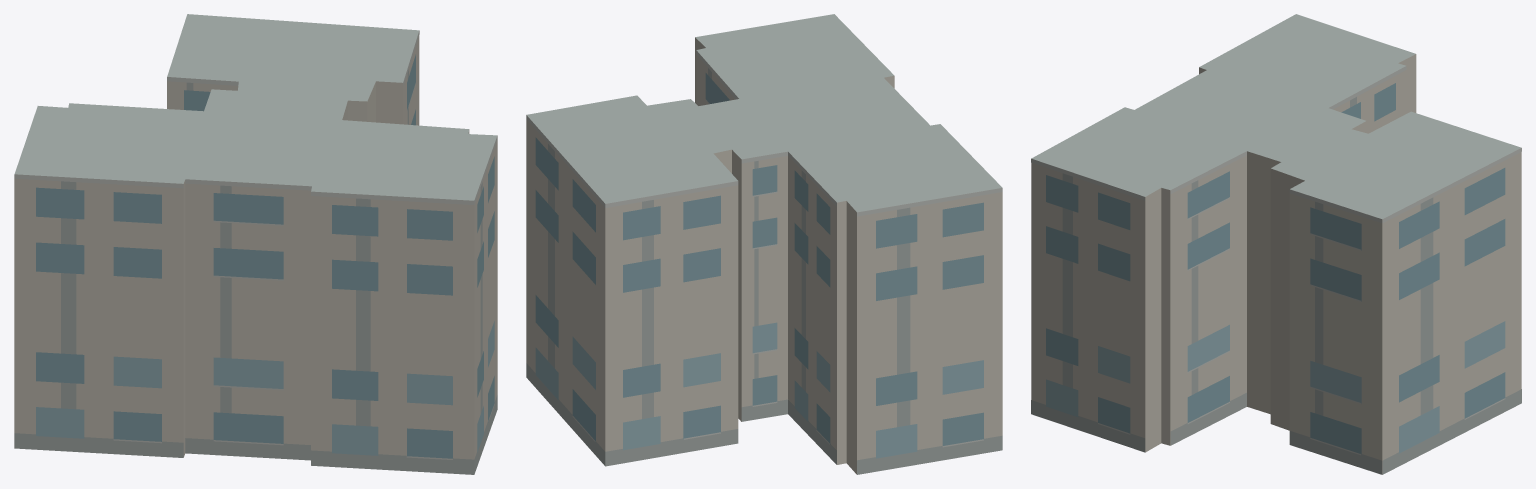
File: survey-upis-32724401.glb
3 views of the same model, side by side, from view 1: azimuth 30°, elevation 25°; view 2: azimuth 150°, elevation 25°; view 3: azimuth 270°, elevation 25° (orthographic). The views are drawn at different scales.
Parts seen in each view (by area): view 1: survey-upis-32724401.tmp; view 2: survey-upis-32724401.tmp; view 3: survey-upis-32724401.tmp.
Boxes of the visible parts, x1,y1,x2,y2 form: survey-upis-32724401.tmp: (14, 14, 497, 474); survey-upis-32724401.tmp: (526, 14, 1002, 474); survey-upis-32724401.tmp: (1031, 14, 1521, 474).
Size of the model in its own units: 26.27 by 15.25 by 26.53.
